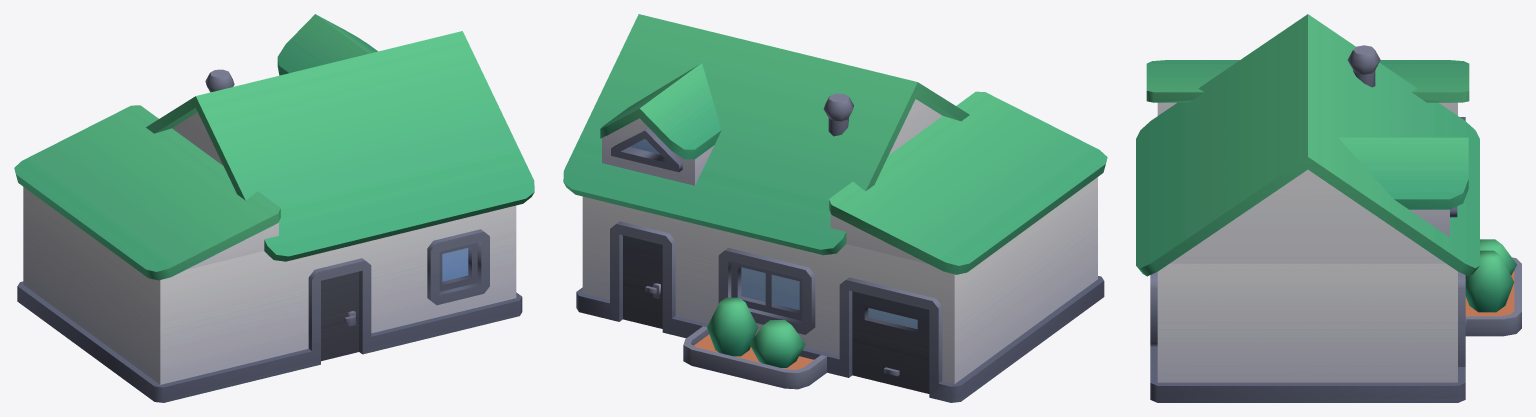
The picture shows the model from 3 angles, left to right: view 1: azimuth 30°, elevation 25°; view 2: azimuth 150°, elevation 25°; view 3: azimuth 270°, elevation 25°; orthographic projection. The views are drawn at different scales.
Visible parts, largest first — view 1: building-type-i; view 2: building-type-i; view 3: building-type-i.
Part boxes in pixels (x1,y1,x2,y2): building-type-i: (14,14,534,402); building-type-i: (563,14,1107,402); building-type-i: (1136,14,1521,402).
Size of the model in its own units: 11.57 by 6.64 by 9.25.
Materials: 1 (1 with a texture image).
